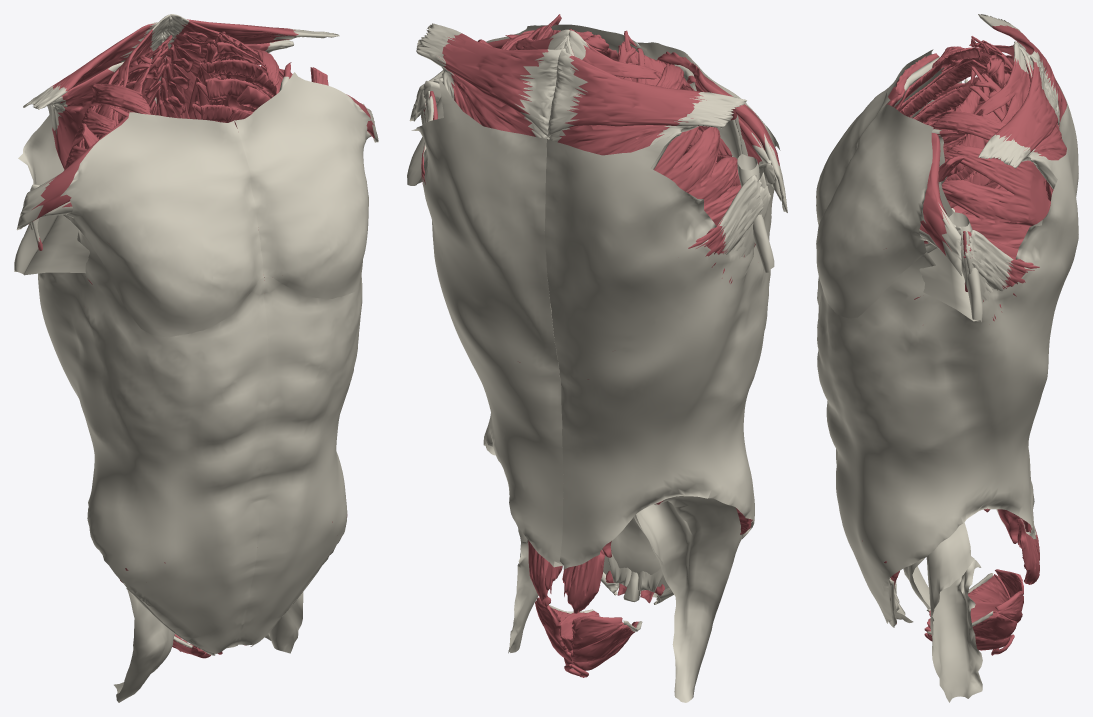
The model's file is detail-muscular-trunk.glb.
3 views of the same model, side by side, from view 1: azimuth 30°, elevation 25°; view 2: azimuth 150°, elevation 25°; view 3: azimuth 270°, elevation 25° (orthographic). The views are drawn at different scales.
Parts seen in each view (by area): view 1: za-28dd58098135a64c, za-182443e0f28ff4b9, za-cc6677377d942e70, za-4e96004f27d1820c, za-99c5e4b75c1ed52d, za-90d8387528a29d94, za-414b4649fc9b062c, za-2ba0b1feac685b30, za-08403f159fbf29bd, za-a8729a66ef535593, za-9ac365e0905b0b22, za-053d1ef6d803efae (+9 smaller); view 2: za-28dd58098135a64c, za-cc6677377d942e70, za-414b4649fc9b062c, za-a8729a66ef535593, za-053d1ef6d803efae, za-08403f159fbf29bd, za-bc7dbad5f9689a32, za-2ba0b1feac685b30, za-6b8257bf0a5d5417, za-99c5e4b75c1ed52d, za-9ac365e0905b0b22, za-3ba3b76e67cbc8a9 (+13 smaller); view 3: za-cc6677377d942e70, za-4e96004f27d1820c, za-a7d56735891ac88f, za-38c9ff2d7c11204d, za-053d1ef6d803efae, za-6900eece38b9a1f9, za-9f9ffda6d5eaf615, za-182443e0f28ff4b9, za-b927ab4a5cef435d, za-3c0a9b09661fd76b, za-73b23d4bcf4fd3dd, za-84c5ea2ff5263a30 (+15 smaller).
Part boxes in pixels (<box>): za-28dd58098135a64c: <box>18,105,268,653</box>; za-182443e0f28ff4b9: <box>60,112,263,337</box>; za-cc6677377d942e70: <box>233,275,362,645</box>; za-4e96004f27d1820c: <box>234,72,371,298</box>; za-99c5e4b75c1ed52d: <box>14,215,89,275</box>; za-90d8387528a29d94: <box>200,41,283,122</box>; za-414b4649fc9b062c: <box>114,590,174,702</box>; za-2ba0b1feac685b30: <box>47,62,123,168</box>; za-08403f159fbf29bd: <box>64,83,151,284</box>; za-a8729a66ef535593: <box>23,22,162,109</box>; za-9ac365e0905b0b22: <box>16,116,128,230</box>; za-053d1ef6d803efae: <box>159,19,339,44</box>; za-28dd58098135a64c: <box>544,134,770,597</box>; za-cc6677377d942e70: <box>411,76,619,588</box>; za-414b4649fc9b062c: <box>634,496,742,702</box>; za-a8729a66ef535593: <box>547,48,746,137</box>; za-053d1ef6d803efae: <box>416,23,565,137</box>; za-08403f159fbf29bd: <box>654,63,741,233</box>; za-bc7dbad5f9689a32: <box>587,172,770,379</box>; za-2ba0b1feac685b30: <box>549,125,698,169</box>; za-6b8257bf0a5d5417: <box>441,67,559,370</box>; za-99c5e4b75c1ed52d: <box>674,64,774,272</box>; za-9ac365e0905b0b22: <box>657,51,787,212</box>; za-3ba3b76e67cbc8a9: <box>602,517,669,589</box>; za-cc6677377d942e70: <box>817,140,1078,623</box>; za-4e96004f27d1820c: <box>816,101,933,318</box>; za-a7d56735891ac88f: <box>914,111,1050,299</box>; za-38c9ff2d7c11204d: <box>926,523,982,702</box>; za-053d1ef6d803efae: <box>978,54,1059,168</box>; za-6900eece38b9a1f9: <box>919,129,982,322</box>; za-9f9ffda6d5eaf615: <box>964,230,1039,532</box>; za-182443e0f28ff4b9: <box>816,49,933,225</box>; za-b927ab4a5cef435d: <box>900,59,1007,181</box>; za-3c0a9b09661fd76b: <box>920,133,961,275</box>; za-73b23d4bcf4fd3dd: <box>894,47,1007,167</box>; za-84c5ea2ff5263a30: <box>974,43,1030,123</box>.
Bounding box in the file's own units: 0.4003 × 0.6819 × 0.2581.
